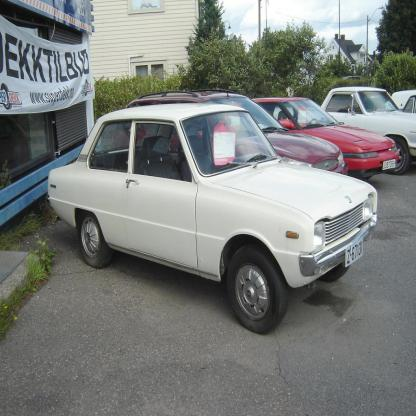Car: (47, 103, 378, 338), (125, 84, 346, 175), (254, 93, 400, 181), (320, 83, 416, 176), (387, 92, 415, 123)
